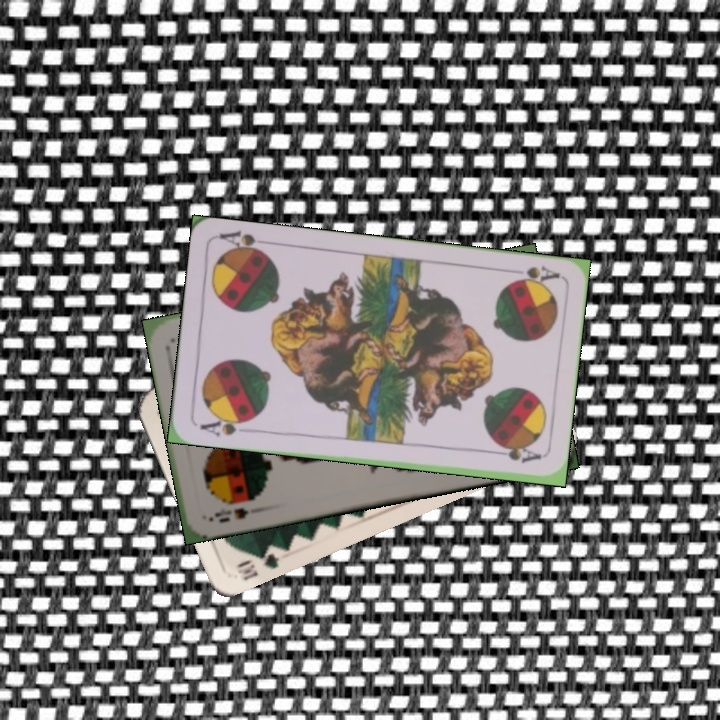G10: (233, 542, 284, 584)
SA: (503, 261, 562, 289), (196, 411, 254, 439)
SO: (210, 503, 251, 525)
